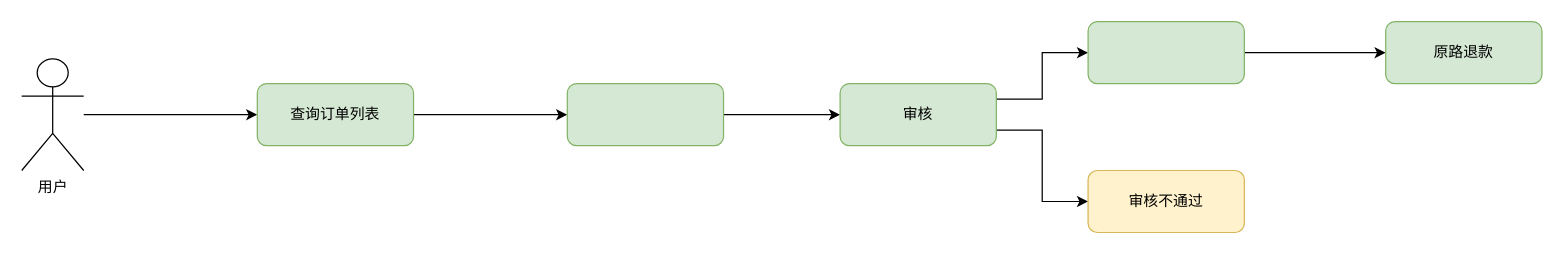
This 1564x254 diagram has some shape labels left out. The shapes that lost their labels are listed below. From the top down, each one's centre as x and y in pixels, then its label:
At point (1165, 52): "审核通过".
At point (645, 114): "发起退款申请".
